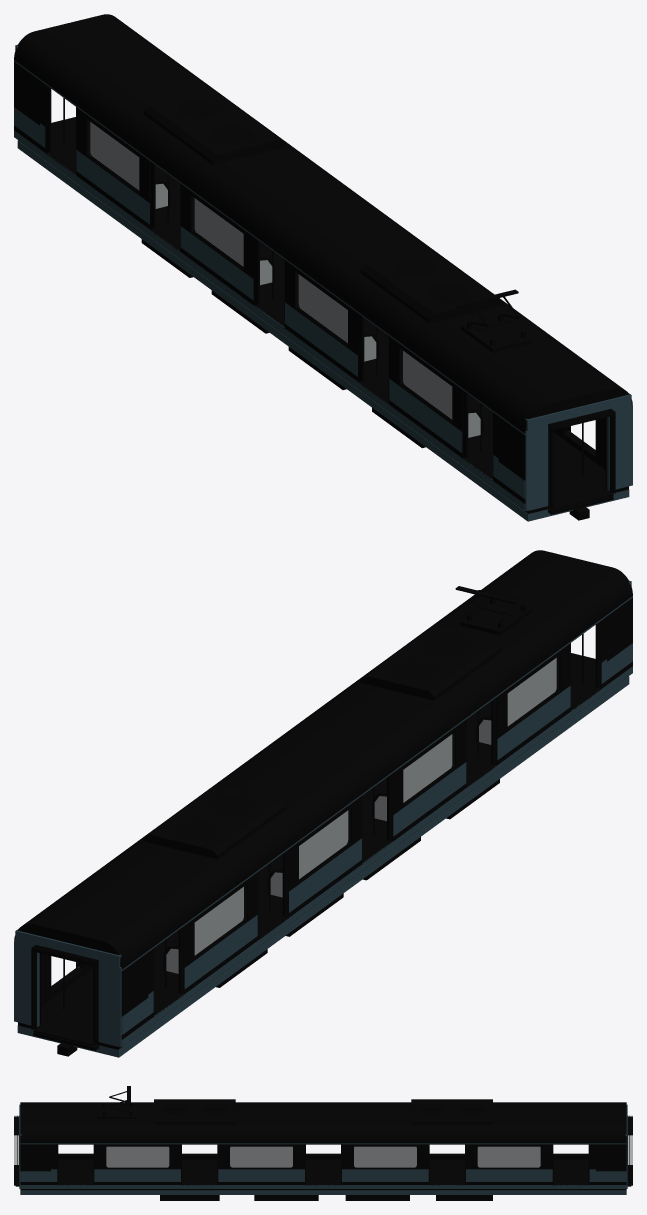
File: motor.obj
3 views of the same model, one above another, from view 1: azimuth 30°, elevation 25°; view 2: azimuth 150°, elevation 25°; view 3: azimuth 270°, elevation 25° (orthographic). The views are drawn at different scales.
Parts seen in each view (by area): view 1: shell, interior, window, interior_soft_white; view 2: shell, interior, window, interior_soft_white; view 3: shell, interior, window, interior_soft_white, seats_soft_white.
Boxes of the visible parts, <box> form: shell: <box>14,14,632,521</box>; interior: <box>18,86,628,513</box>; window: <box>90,122,480,437</box>; interior_soft_white: <box>46,85,622,469</box>; shell: <box>14,550,632,1057</box>; interior: <box>18,622,628,1049</box>; window: <box>166,658,556,973</box>; interior_soft_white: <box>24,621,600,1005</box>; shell: <box>14,1086,632,1200</box>; interior: <box>14,1144,632,1190</box>; window: <box>106,1146,540,1167</box>; interior_soft_white: <box>14,1116,632,1159</box>; seats_soft_white: <box>106,1167,540,1168</box>.
Bounding box in the file's own units: 3 × 4.23 × 25.
